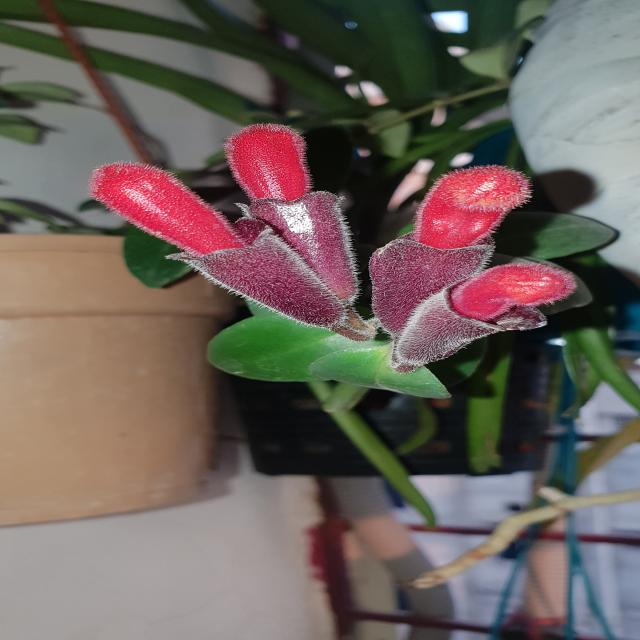Lipstick-Plant: (68, 102, 618, 393)
